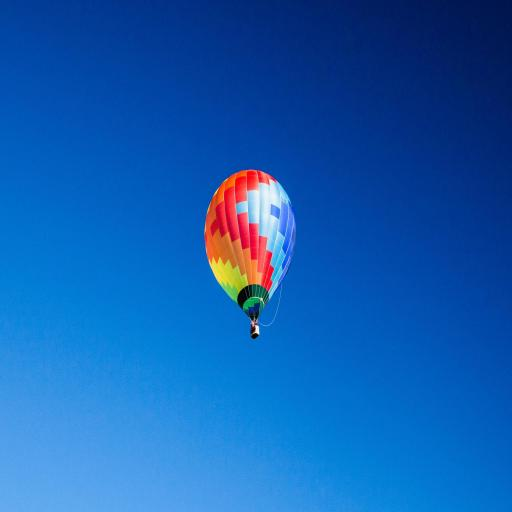hot air ballon: (202, 167, 300, 343)
